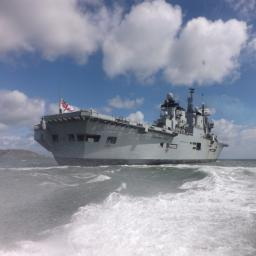Portanaves: (34, 81, 232, 169)
